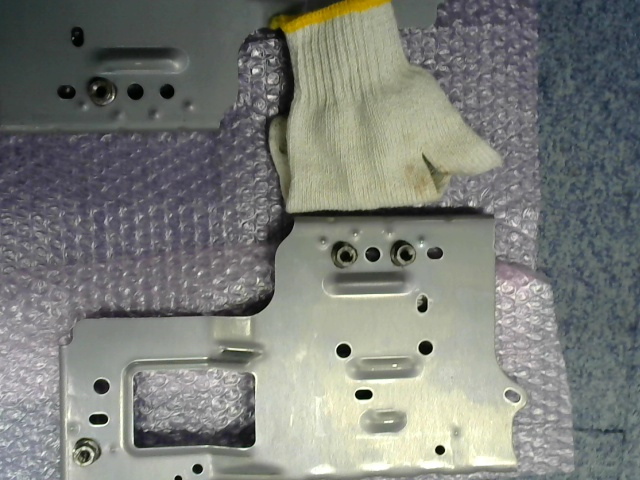dog: (86, 76, 116, 106), (71, 437, 101, 465), (331, 240, 358, 268), (390, 240, 417, 267)
